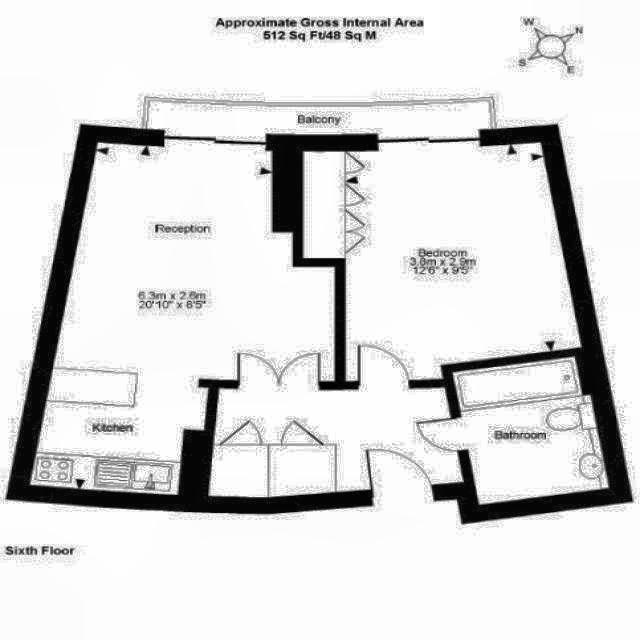room: (30, 131, 349, 505), (282, 105, 582, 401), (208, 381, 465, 502), (453, 353, 610, 506)
